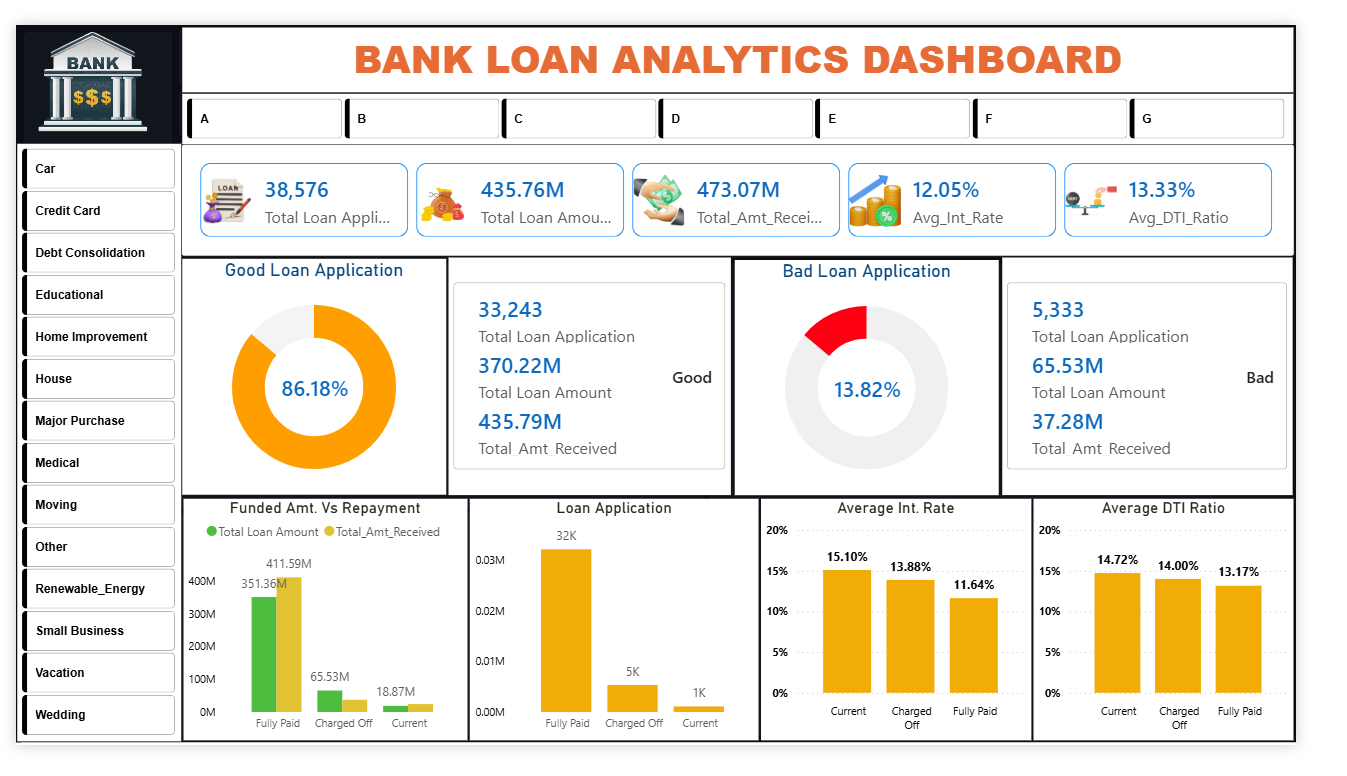

The page's visual inventory and layout, read from the dashboard file:
{"tool":"powerbi","page":{"name":"Summary","canvas":[1280,720],"ordinal":0},"visuals":[{"type":"cardVisual","fields":{"Data":["All Measures.Loan ID","All Measures.Total Loan Amount","All Measures.Total Amount Received","All Measures.Average Interest Rate","All Measures.Avg_DTI"]},"box":[165.1,118.6,1114,112.8],"z":0},{"type":"donutChart","title":"Good Loan Application","fields":{"Category":["financial_loan.Good_vs_Bad_Loan"],"Y":["All Measures.Total Loan Application"]},"box":[166.3,233.7,264,236],"z":1000},{"type":"donutChart","title":"Bad Loan Application","fields":{"Category":["financial_loan.Good_vs_Bad_Loan"],"Y":["All Measures.Total Loan Application"]},"box":[718.6,234.9,264,234.9],"z":2000},{"type":"cardVisual","fields":{"Data":["All Measures.Good Loan %"]},"box":[233.7,325.6,131.4,72.1],"z":3000},{"type":"cardVisual","fields":{"Data":["All Measures.Bad Loan %"]},"box":[786,326.7,131.4,72.1],"z":4000},{"type":"cardVisual","fields":{"Data":["All Measures.Loan ID","All Measures.Total Loan Amount","All Measures.Total Amount Received"],"Rows":["financial_loan.Good_vs_Bad_Loan"]},"box":[432.6,232.6,282.6,237.2],"z":5000},{"type":"cardVisual","fields":{"Data":["All Measures.Loan ID","All Measures.Total Loan Amount","All Measures.Total Amount Received"],"Rows":["financial_loan.Good_vs_Bad_Loan"]},"box":[986,232.6,290.7,237.2],"z":6000},{"type":"clusteredColumnChart","title":"Funded Amt. Vs Repayment","fields":{"Category":["financial_loan.LOAN_STATUS"],"Y":["All Measures.Total Loan Amount","All Measures.Total_Amt_Received"]},"box":[167.5,473.8,283.8,241.2],"z":7000},{"type":"clusteredColumnChart","title":"Loan Application","fields":{"Category":["financial_loan.LOAN_STATUS"],"Y":["All Measures.Total Loan Application"]},"box":[453.8,473.8,288.8,241.2],"z":8000},{"type":"clusteredColumnChart","title":"Average Int. Rate","fields":{"Category":["financial_loan.LOAN_STATUS"],"Y":["All Measures.Avg_Int_Rate"]},"box":[745,473.8,270,241.2],"z":9000},{"type":"clusteredColumnChart","title":"Average DTI  Ratio","fields":{"Category":["financial_loan.LOAN_STATUS"],"Y":["All Measures.Avg_DTI_Ratio"]},"box":[1017.5,473.8,260,241.2],"z":10000},{"type":"image","box":[0,3.8,153.8,105],"z":11000},{"type":"advancedSlicerVisual","fields":{"Values":["financial_loan.PURPOSE"]},"box":[1.2,118.8,163.8,597.5],"z":12000},{"type":"advancedSlicerVisual","fields":{"Values":["financial_loan.GRADE"]},"box":[166.2,68.8,1111.2,50],"z":13000},{"type":"textbox","box":[166.2,2.5,1111.2,65],"z":14000}]}

Visuals, with their boxes in screenshot pixels (x1, y1, x2, y2), scaled from the page's 1280x720 canvas onto the 1347x776 screenshot:
cardVisual - All Measures.Loan ID x All Measures.Total Loan Amount: {"x1": 174, "y1": 128, "x2": 1346, "y2": 249}
"Good Loan Application" donutChart: {"x1": 175, "y1": 252, "x2": 453, "y2": 506}
"Bad Loan Application" donutChart: {"x1": 756, "y1": 253, "x2": 1034, "y2": 506}
cardVisual - All Measures.Good Loan %: {"x1": 246, "y1": 351, "x2": 384, "y2": 429}
cardVisual - All Measures.Bad Loan %: {"x1": 827, "y1": 352, "x2": 965, "y2": 430}
cardVisual - All Measures.Loan ID x All Measures.Total Loan Amount: {"x1": 455, "y1": 251, "x2": 753, "y2": 506}
cardVisual - All Measures.Loan ID x All Measures.Total Loan Amount: {"x1": 1038, "y1": 251, "x2": 1344, "y2": 506}
"Funded Amt. Vs Repayment" clusteredColumnChart: {"x1": 176, "y1": 511, "x2": 475, "y2": 771}
"Loan Application" clusteredColumnChart: {"x1": 478, "y1": 511, "x2": 781, "y2": 771}
"Average Int. Rate" clusteredColumnChart: {"x1": 784, "y1": 511, "x2": 1068, "y2": 771}
"Average DTI  Ratio" clusteredColumnChart: {"x1": 1071, "y1": 511, "x2": 1344, "y2": 771}
image: {"x1": 0, "y1": 4, "x2": 162, "y2": 117}
advancedSlicerVisual - financial_loan.PURPOSE: {"x1": 1, "y1": 128, "x2": 174, "y2": 772}
advancedSlicerVisual - financial_loan.GRADE: {"x1": 175, "y1": 74, "x2": 1344, "y2": 128}
textbox: {"x1": 175, "y1": 3, "x2": 1344, "y2": 73}
